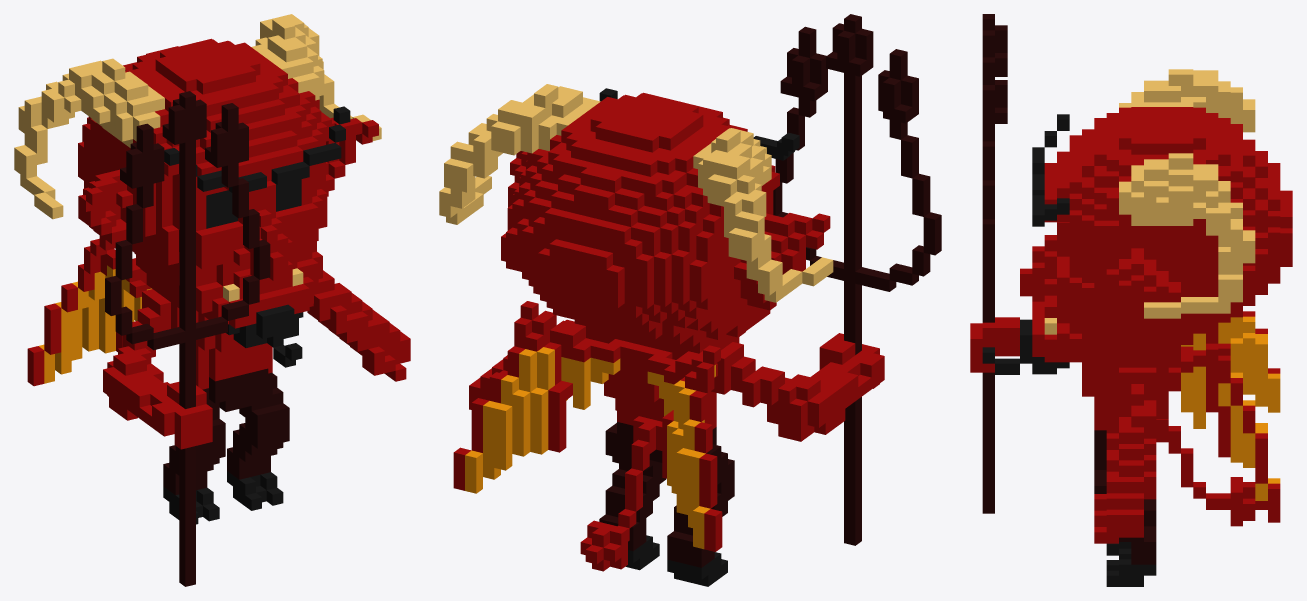
The model's file is demon.obj.
3 views of the same model, side by side, from view 1: azimuth 30°, elevation 25°; view 2: azimuth 150°, elevation 25°; view 3: azimuth 270°, elevation 25° (orthographic). The views are drawn at different scales.
Size of the model in its own units: 3.4 by 4.4 by 2.6.
1 material, 1 textured.
